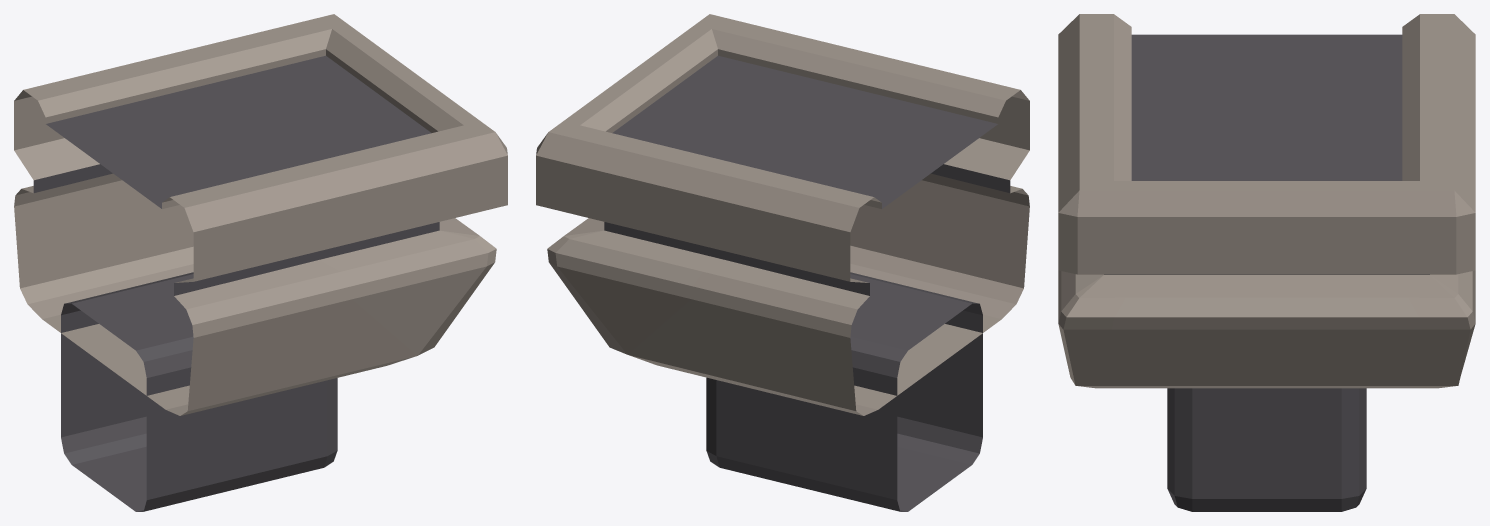
Rendered from SM_GargoyleWallStand.fbx.
3 renders of one model, left to right at view 1: azimuth 30°, elevation 25°; view 2: azimuth 150°, elevation 25°; view 3: azimuth 270°, elevation 25°, orthographic. The views are drawn at different scales.
Visible parts, largest first — view 1: SM_GargoyleWallStand; view 2: SM_GargoyleWallStand; view 3: SM_GargoyleWallStand.
Part boxes in pixels (x1,y1,x2,y2): SM_GargoyleWallStand: (14, 14, 507, 511); SM_GargoyleWallStand: (536, 14, 1029, 511); SM_GargoyleWallStand: (1058, 14, 1475, 511).
Size of the model in its own units: 481 by 485 by 465.
